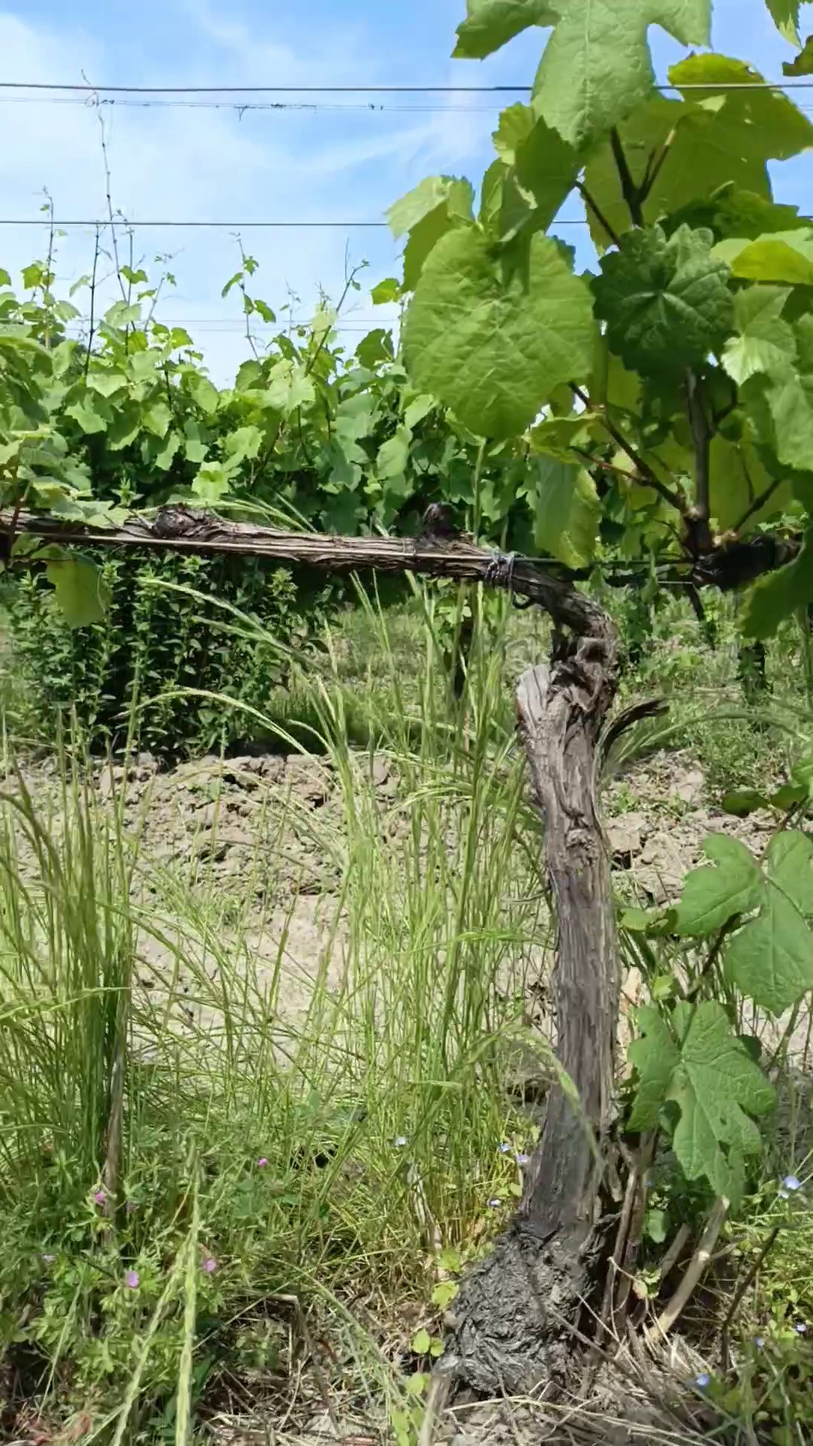vine_trunk: (452, 583, 620, 1393)
